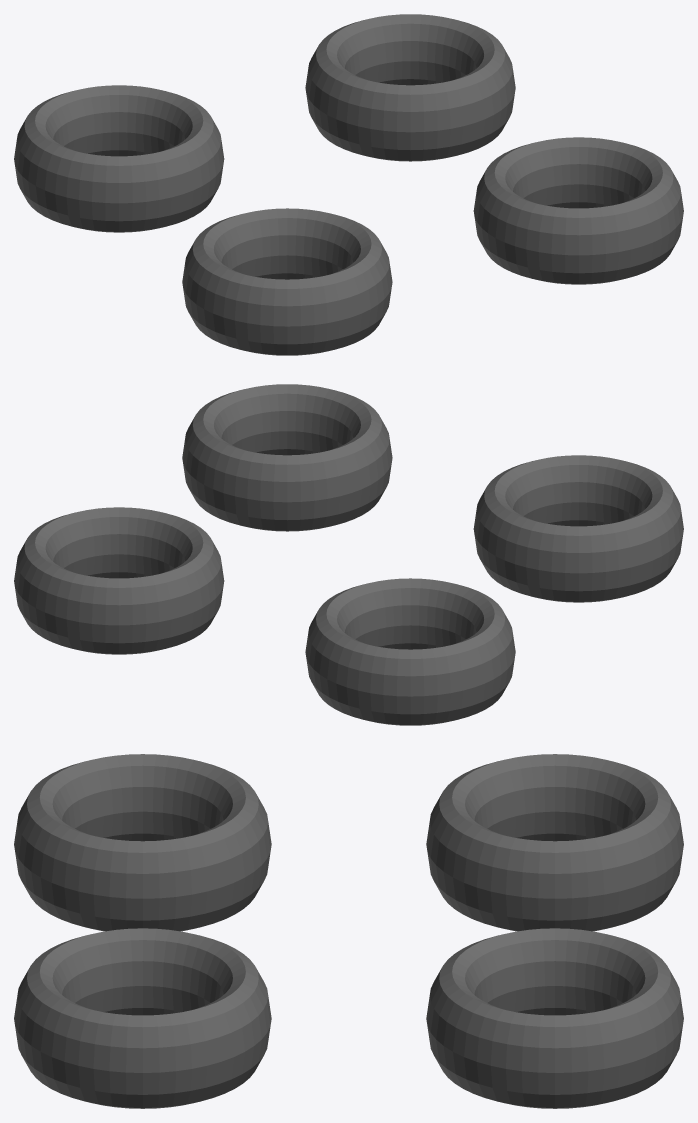
File: BossEnemyFoot.gltf
The picture shows the model from 3 angles, top to bottom: view 1: azimuth 30°, elevation 25°; view 2: azimuth 150°, elevation 25°; view 3: azimuth 270°, elevation 25°; orthographic projection. The views are drawn at different scales.
Parts seen in each view (by area): view 1: 足; view 2: 足; view 3: 足.
Boxes of the visible parts, <box> form: 足: <box>14,14,683,355</box>; 足: <box>14,384,683,725</box>; 足: <box>14,754,683,1108</box>.
Size of the model in its own units: 3.25 by 0.5 by 3.25.
1 material, 1 textured.
